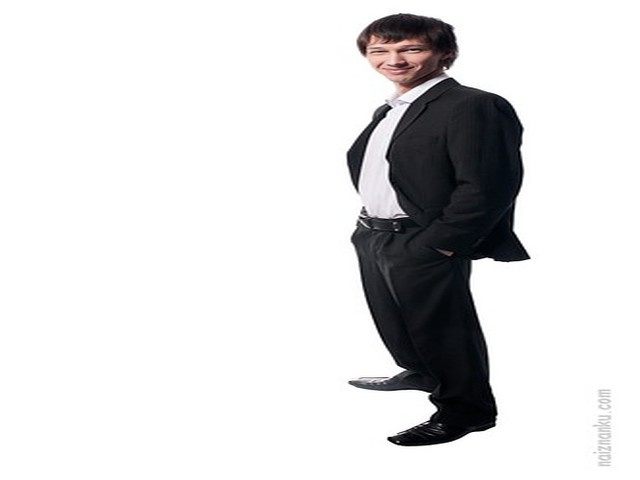Person: (345, 7, 533, 450)
